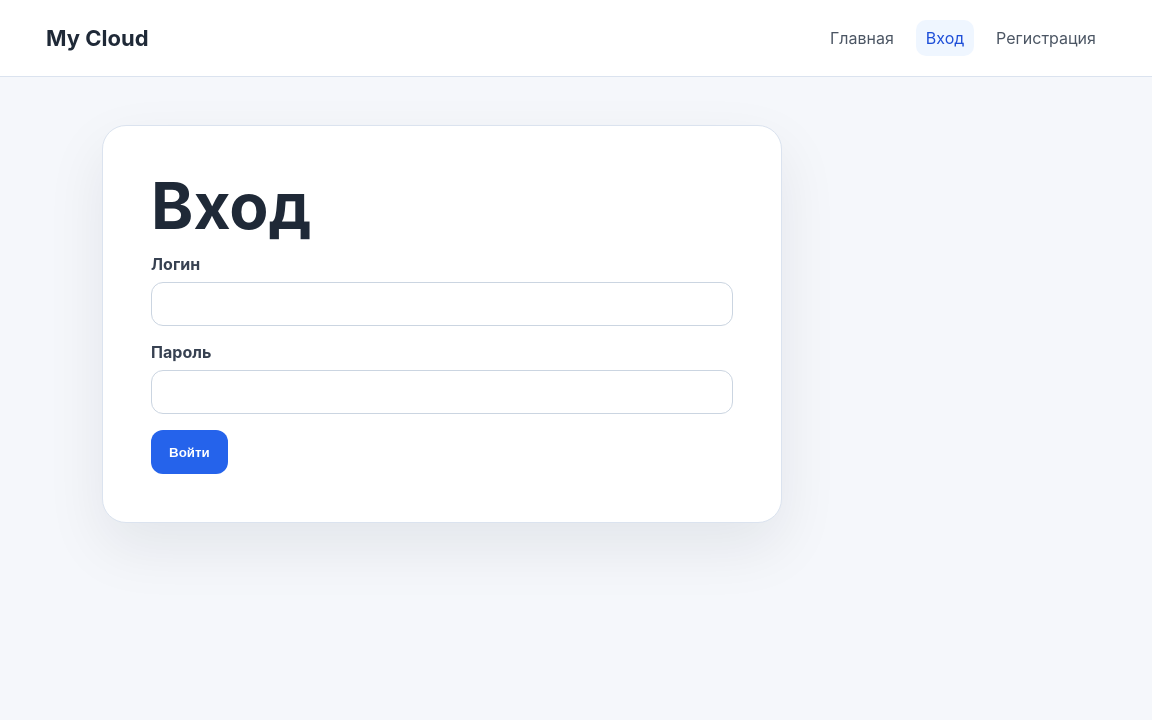
App › logs in admin and navigates to users
This screenshot has width=1152, height=720.
Type "admin123" into the field labelled "Логин" at (442, 304), box [151, 282, 733, 326]
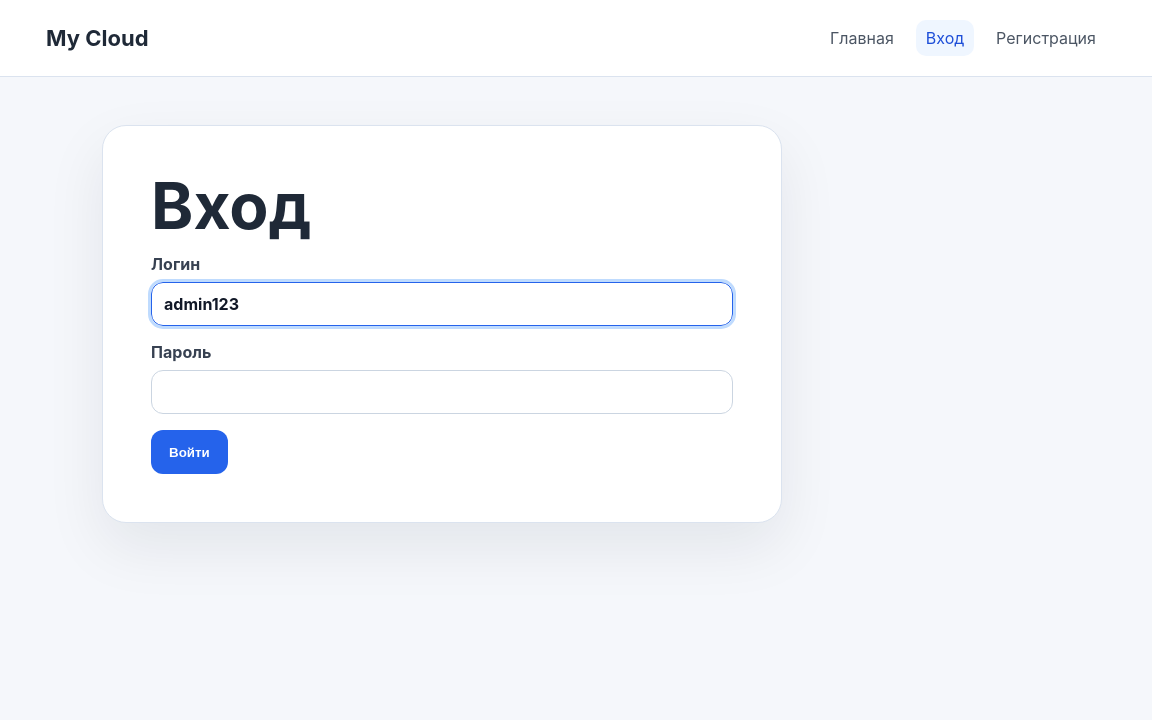
Type "Strong#7" into the password field labelled "Пароль" at (442, 392), box [151, 370, 733, 414]
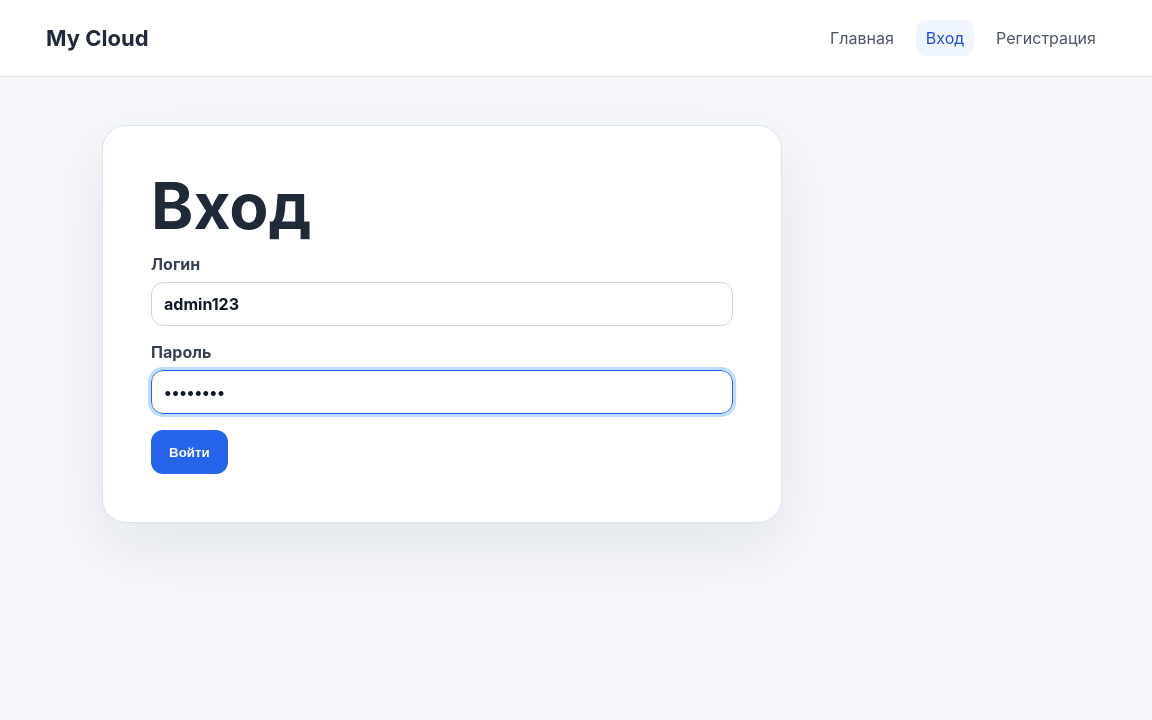
Click the button "Войти" at (189, 452), box [151, 430, 228, 474]
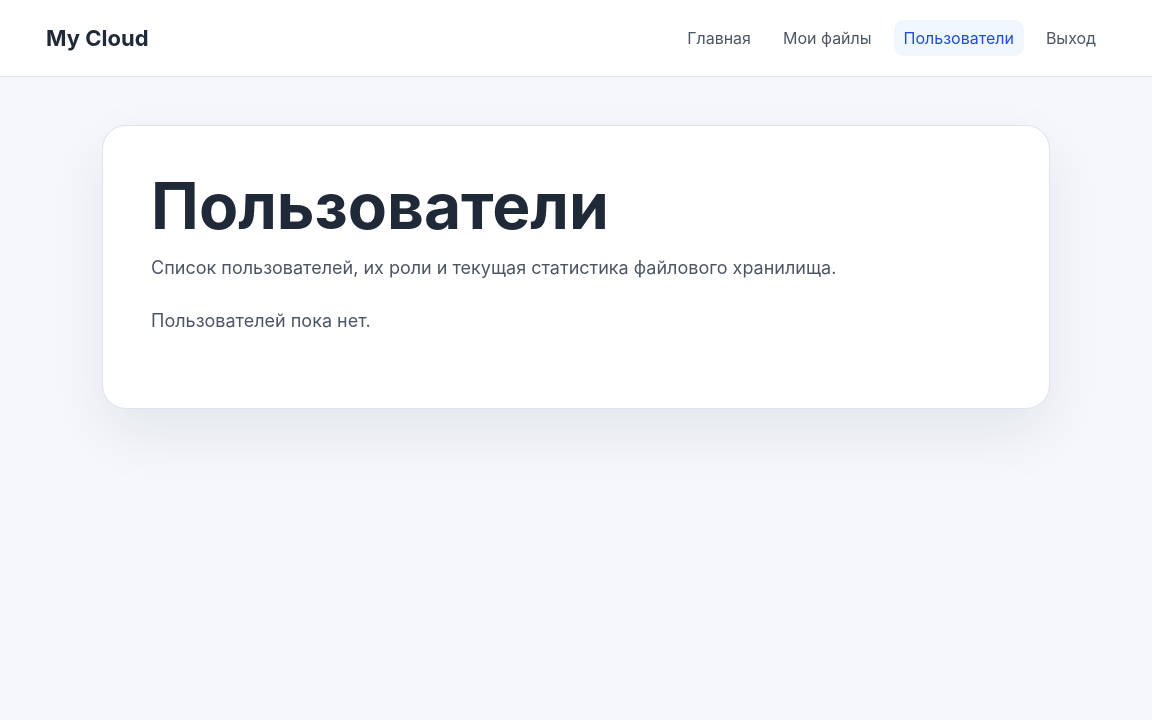
Expected: the heading "Пользователи" is shown, [151, 167, 609, 244]
